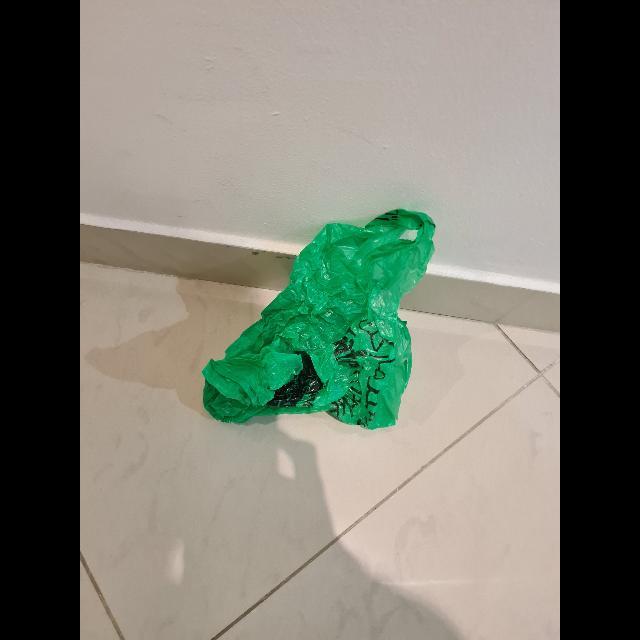plastic_bag: (193, 211, 437, 434)
